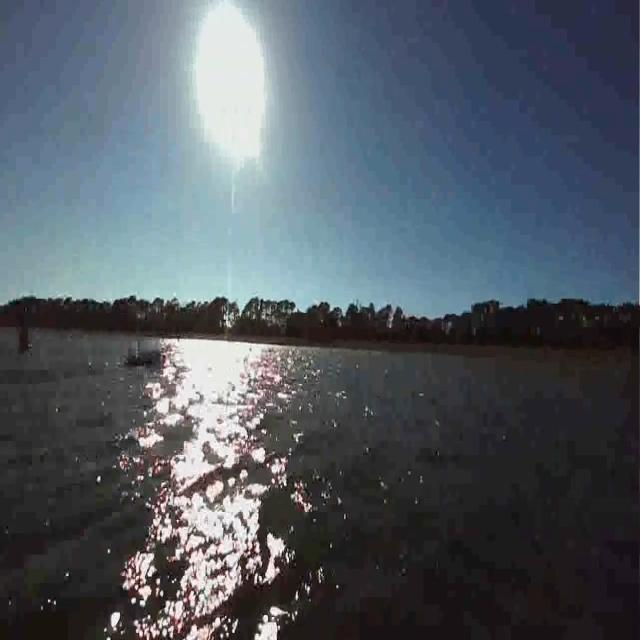red-column-buoy: (16, 310, 32, 355)
